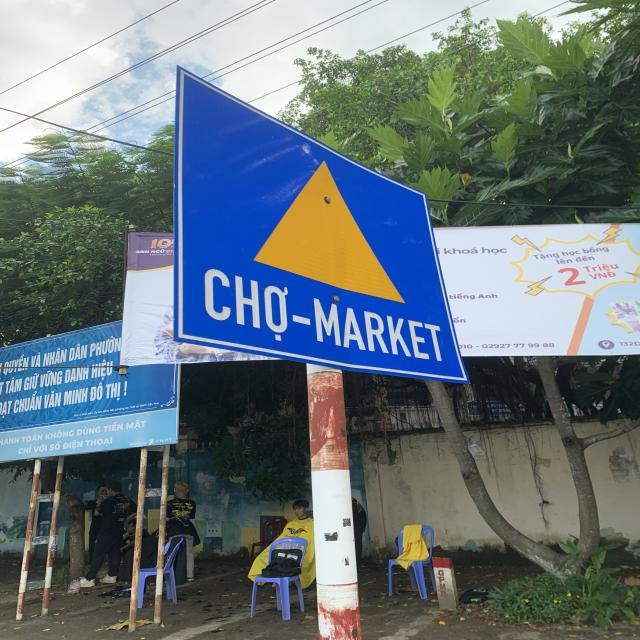Cho_Quay_Xe: (174, 62, 463, 386)
